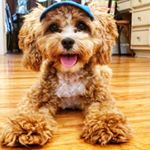puppy: (3, 1, 138, 149)
